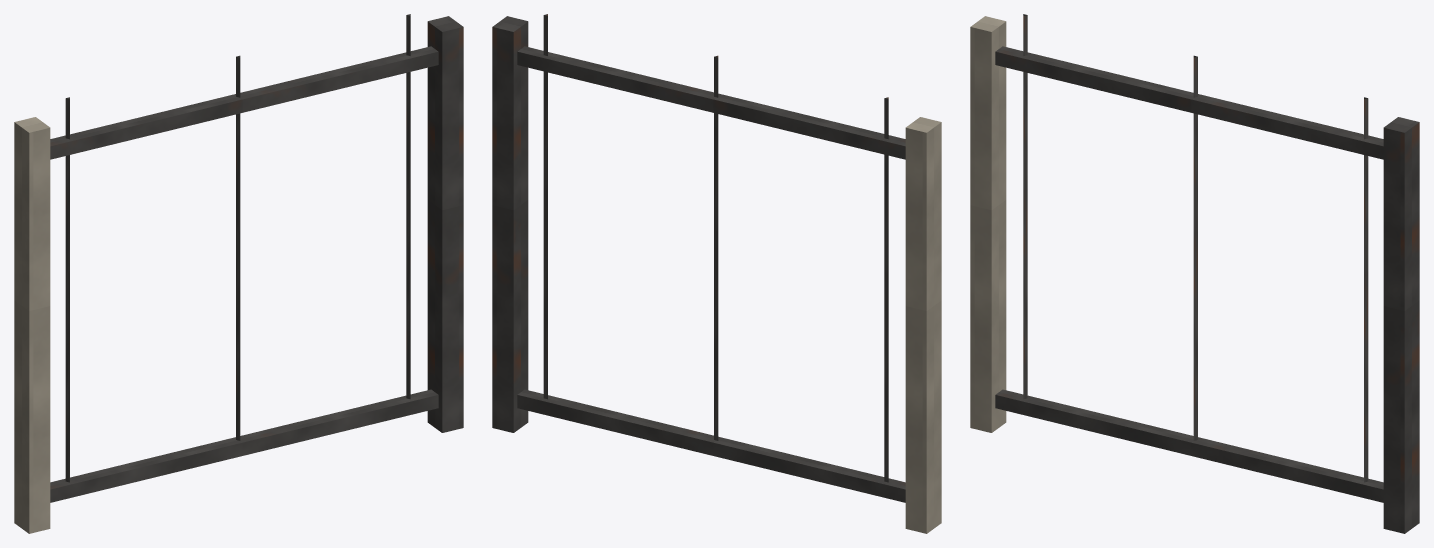
The model's file is Fence_Iron_Spear_1_LOD2.gltf.
3 renders of one model, left to right at view 1: azimuth 30°, elevation 25°; view 2: azimuth 150°, elevation 25°; view 3: azimuth 330°, elevation 25°, orthographic.
Parts seen in each view (by area): view 1: Fence_Iron_Spear_1_LOD2; view 2: Fence_Iron_Spear_1_LOD2; view 3: Fence_Iron_Spear_1_LOD2.
Part boxes in pixels (x1,y1,x2,y2): Fence_Iron_Spear_1_LOD2: [14, 14, 463, 533]; Fence_Iron_Spear_1_LOD2: [492, 14, 941, 533]; Fence_Iron_Spear_1_LOD2: [970, 14, 1419, 533].
Size of the model in its own units: 2.04 by 1.88 by 0.12.
2 materials, 2 textured.
